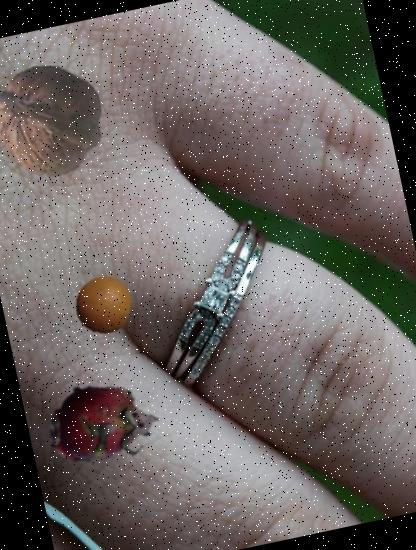Mulberry: (0, 96, 58, 158)
Orange: (68, 270, 138, 340)
Pitahaya: (34, 355, 170, 491)
Walnut: (0, 52, 115, 187)
